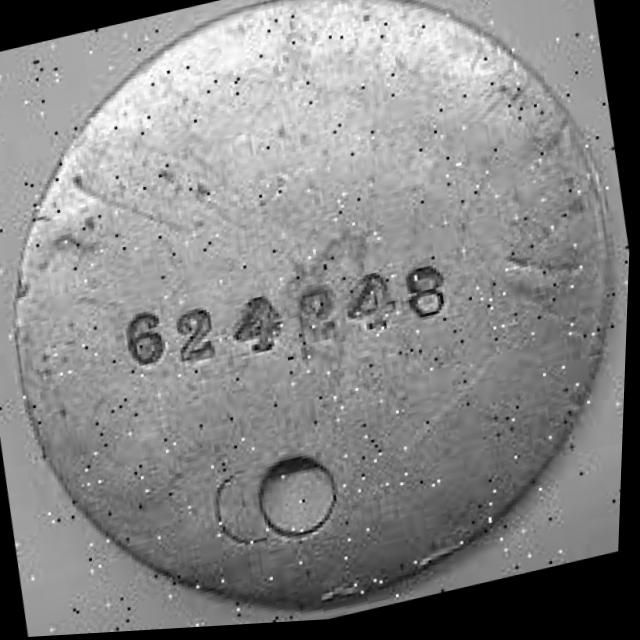ocr: (91, 216, 482, 447)
